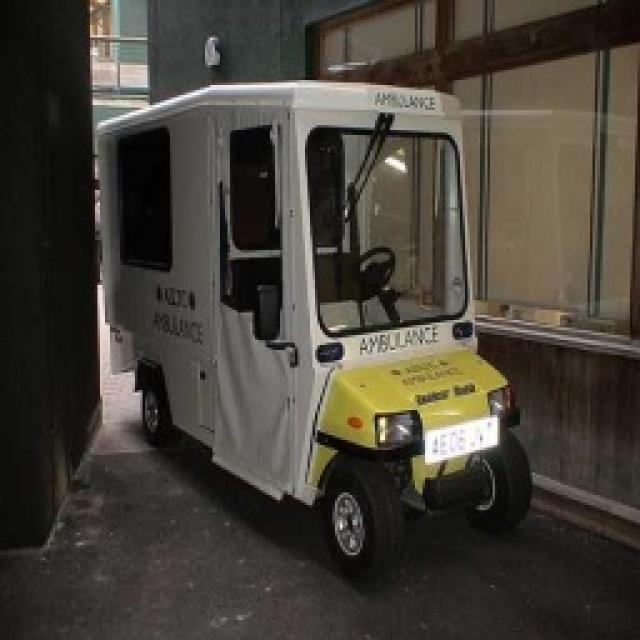emergency-vehicle: (80, 74, 551, 582)
